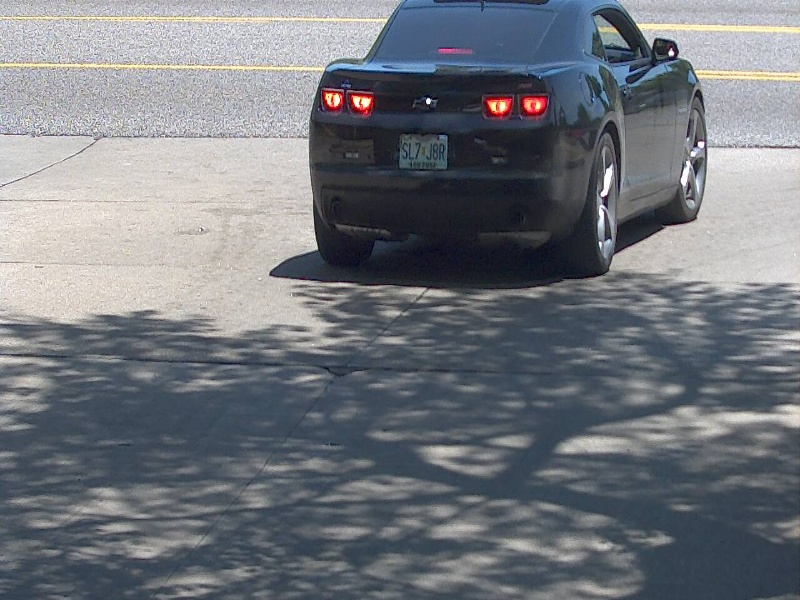licence plate: (397, 132, 449, 172)
